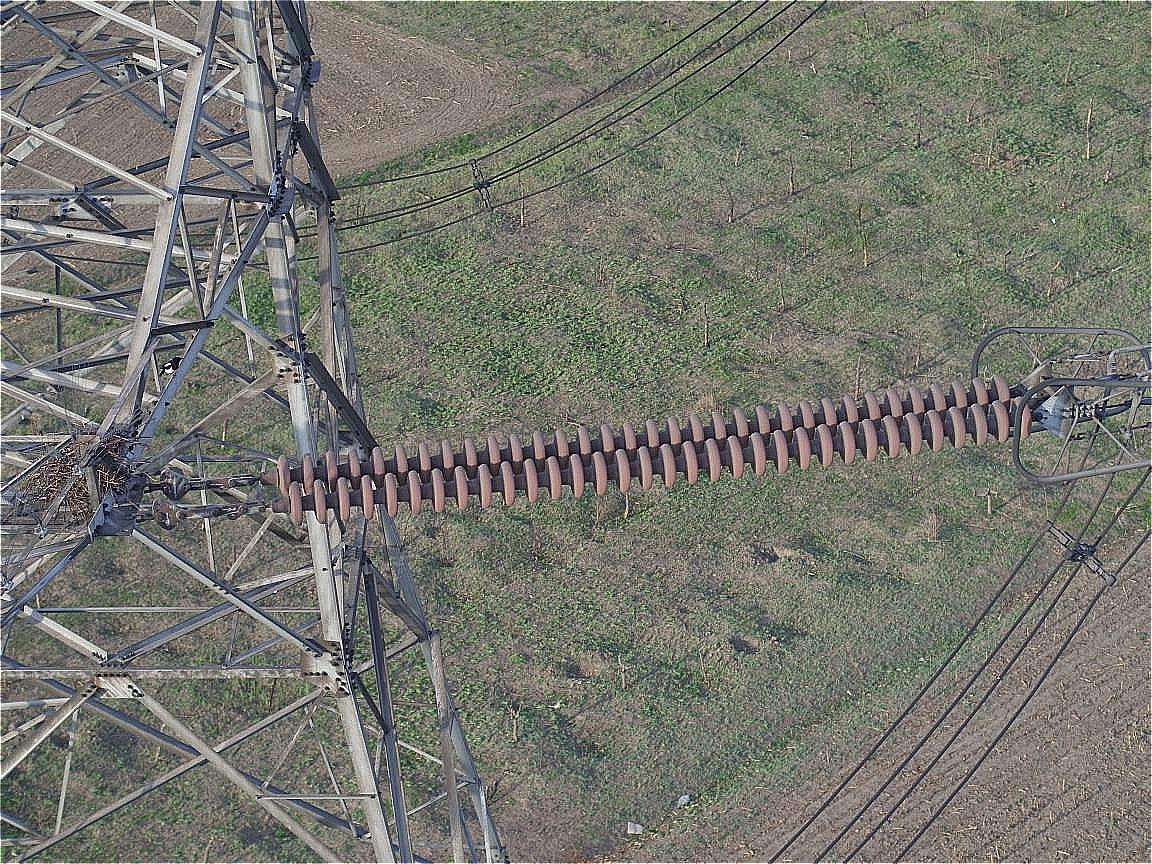insultor1: (247, 370, 1064, 530)
